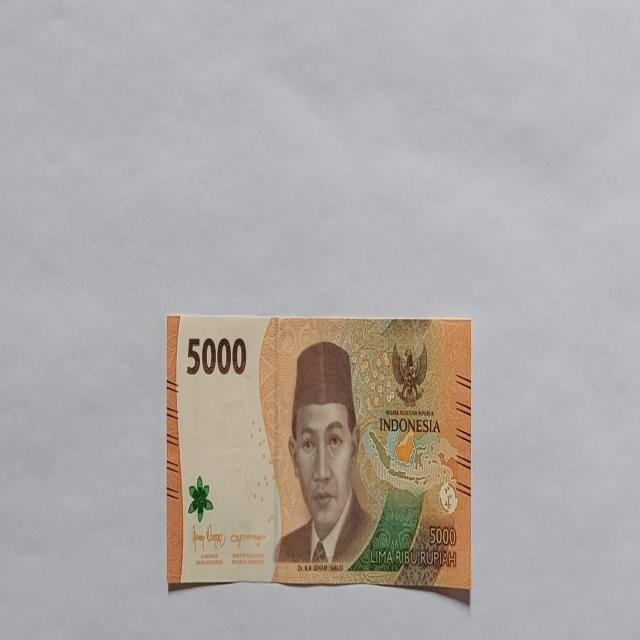lima ribu rupiah: (164, 314, 474, 606), (272, 339, 376, 569)
